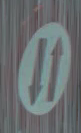Two way: (9, 17, 72, 122)
